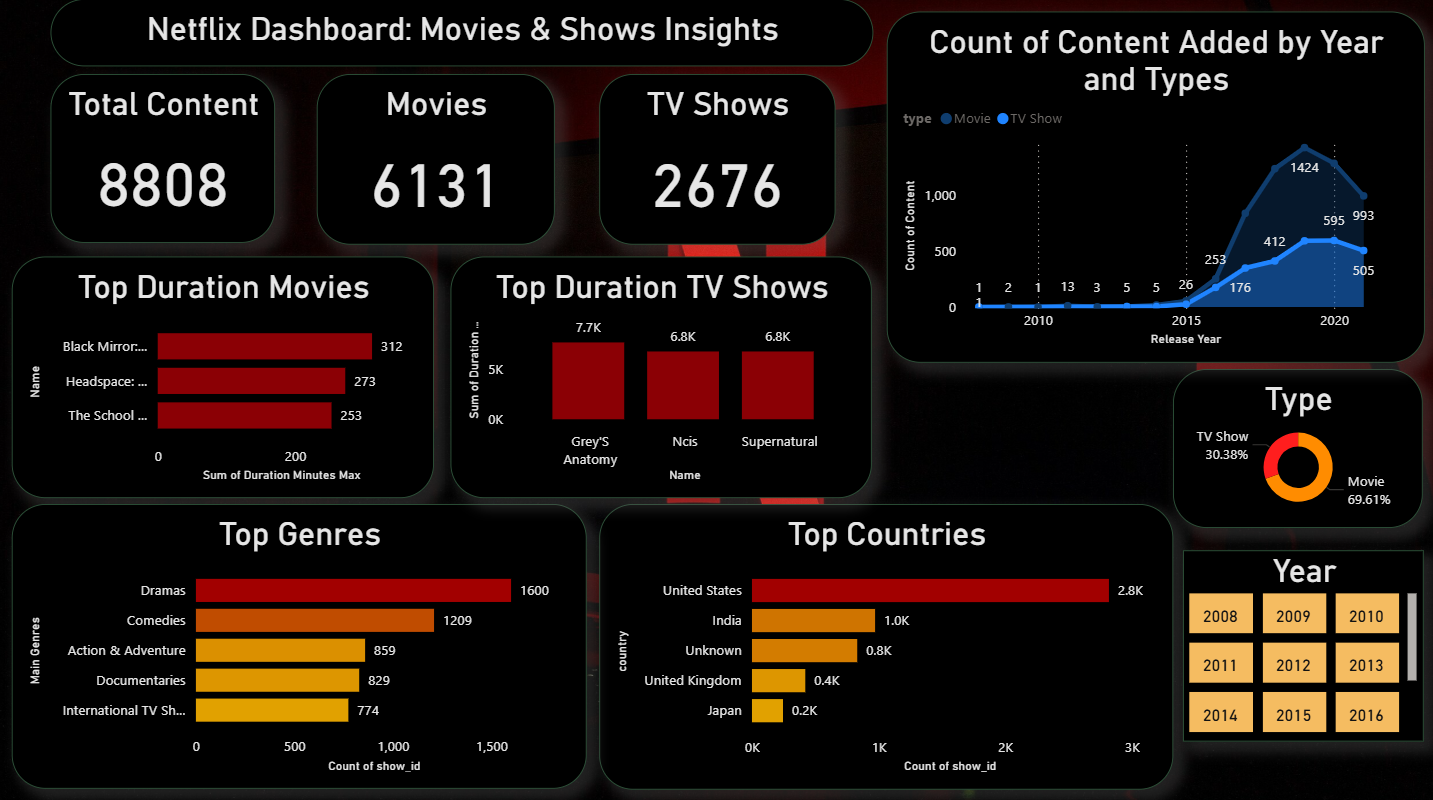

What the dashboard file says about the page in this screenshot:
{"tool":"powerbi","page":{"name":"Page 1","canvas":[1280,720],"ordinal":0},"visuals":[{"type":"card","title":"Total Content","fields":{"Values":["CountNonNull(netflix_titles_cleaned.show_id)"]},"box":[46.7,66.7,200,150],"z":0},{"type":"textbox","title":"Netflix Dashboard: Movies & Shows Insights","box":[46.7,0,732.8,60.4],"z":1000},{"type":"card","title":"Movies","fields":{"Values":["CountNonNull(netflix_titles_cleaned.type)"]},"box":[283.3,66.7,211.7,151.7],"z":2000},{"type":"card","title":"TV Shows","fields":{"Values":["CountNonNull(netflix_titles_cleaned.type)"]},"box":[535,66.7,210,151.7],"z":3000},{"type":"donutChart","title":"Type","fields":{"Y":["CountNonNull(netflix_titles_cleaned.type)"],"Series":["netflix_titles_cleaned.type"]},"box":[1046.7,329.2,222.5,141.7],"z":4000},{"type":"clusteredBarChart","title":"Top Countries","fields":{"Category":["netflix_titles_cleaned.country"],"Y":["CountNonNull(netflix_titles_cleaned.show_id)"]},"box":[535.6,450,511.1,254.4],"z":5000},{"type":"clusteredBarChart","title":"Top Duration Movies","fields":{"Category":["netflix_titles_cleaned.title"],"Y":["Sum(netflix_titles_cleaned.duration_minutes)"]},"box":[12.3,229.2,376,215.4],"z":6000},{"type":"clusteredBarChart","title":"Top Genres","fields":{"Category":["netflix_titles_cleaned.main_genre"],"Y":["CountNonNull(netflix_titles_cleaned.show_id)"]},"box":[12.3,450.1,511.8,253.9],"z":7000},{"type":"clusteredColumnChart","title":"Top  Duration TV Shows","fields":{"Category":["netflix_titles_cleaned.title"],"Y":["Sum(netflix_titles_cleaned.duration_minutes)"]},"box":[403.3,228.9,375.6,215.6],"z":8000},{"type":"areaChart","title":"Count of Content Added by Year and Types","fields":{"Category":["netflix_titles_cleaned.added_year"],"Y":["CountNonNull(netflix_titles_cleaned.title)"],"Series":["netflix_titles_cleaned.type"]},"box":[791.8,11,478.9,312.9],"z":9000},{"type":"advancedSlicerVisual","title":"Year","fields":{"Values":["netflix_titles_cleaned.added_year"]},"box":[1055.2,490.8,214.7,170.6],"z":10000}]}

Visuals, with their boxes in screenshot pixels (x1, y1, x2, y2), scaled from the page's 1280x720 canvas onto the 1433x800 screenshot:
"Total Content" card: region(52, 74, 276, 241)
"Netflix Dashboard: Movies & Shows Insights" textbox: region(52, 0, 873, 67)
"Movies" card: region(317, 74, 554, 243)
"TV Shows" card: region(599, 74, 834, 243)
"Type" donutChart: region(1172, 366, 1421, 523)
"Top Countries" clusteredBarChart: region(600, 500, 1172, 783)
"Top Duration Movies" clusteredBarChart: region(14, 255, 435, 494)
"Top Genres" clusteredBarChart: region(14, 500, 587, 782)
"Top  Duration TV Shows" clusteredColumnChart: region(452, 254, 872, 494)
"Count of Content Added by Year and Types" areaChart: region(886, 12, 1423, 360)
"Year" advancedSlicerVisual: region(1181, 545, 1422, 735)
